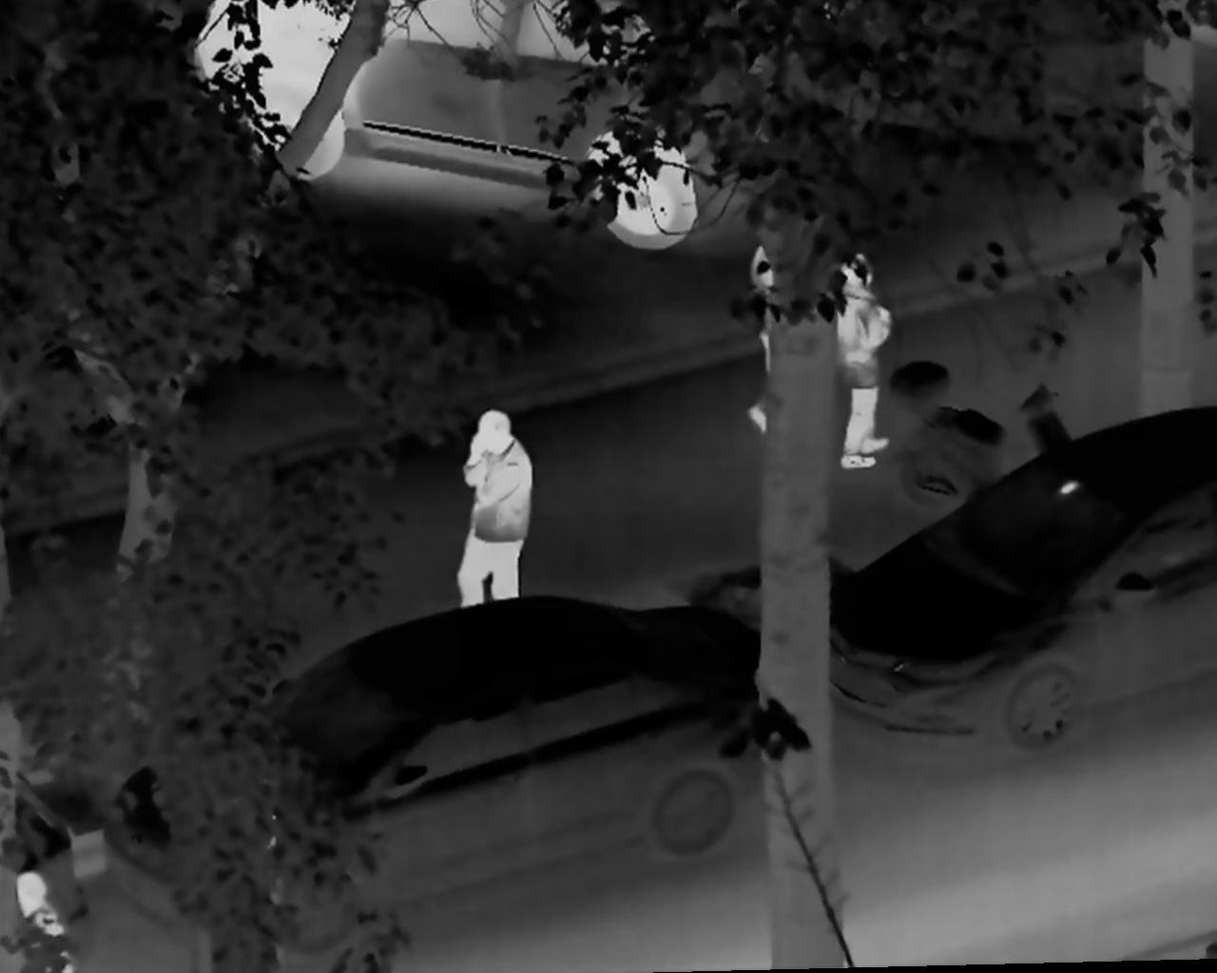person: (454, 406, 541, 611), (822, 251, 898, 474), (746, 227, 788, 440), (8, 865, 79, 973)
